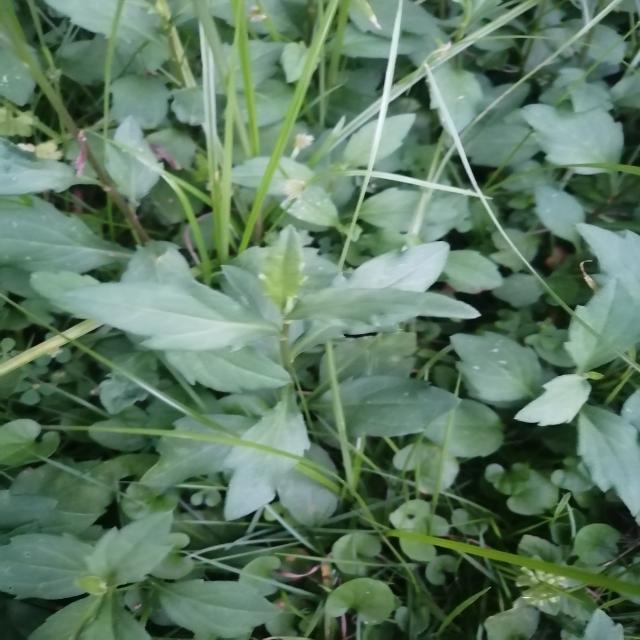Indian aster: (68, 232, 477, 489)
